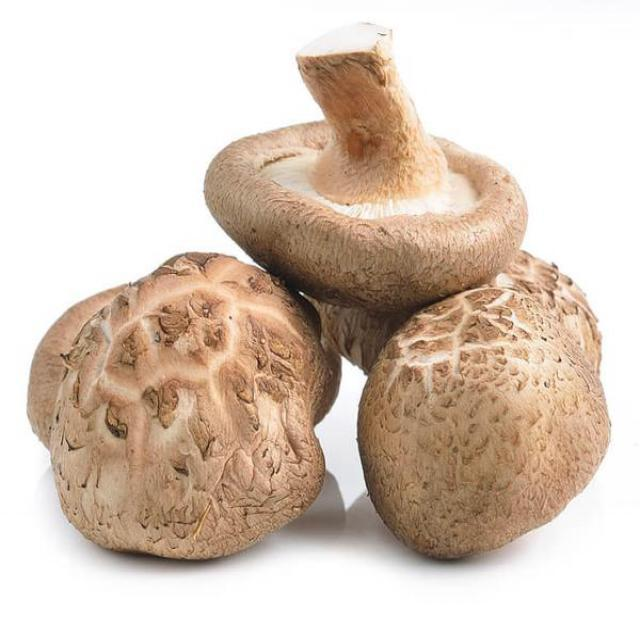Lentinus edodes: (28, 248, 340, 563), (206, 18, 530, 307), (357, 252, 611, 560)
